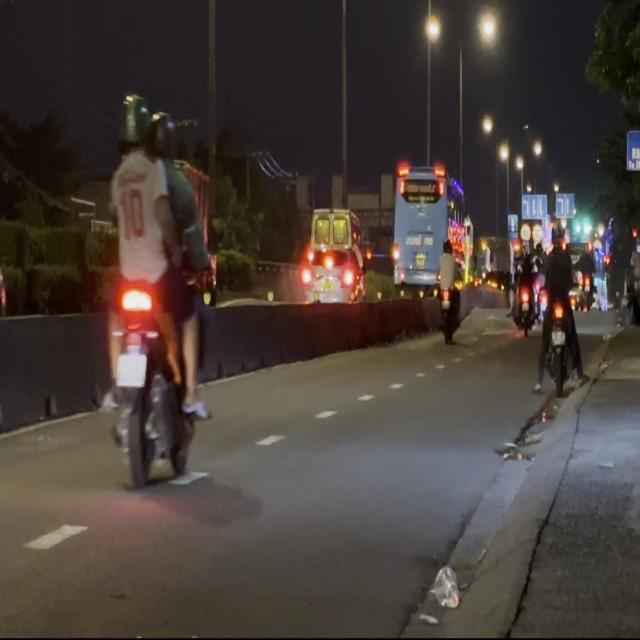helmet: (123, 100, 153, 158), (148, 108, 175, 158)
licenseplate: (101, 94, 214, 487)
nohelmet: (115, 353, 146, 385)
